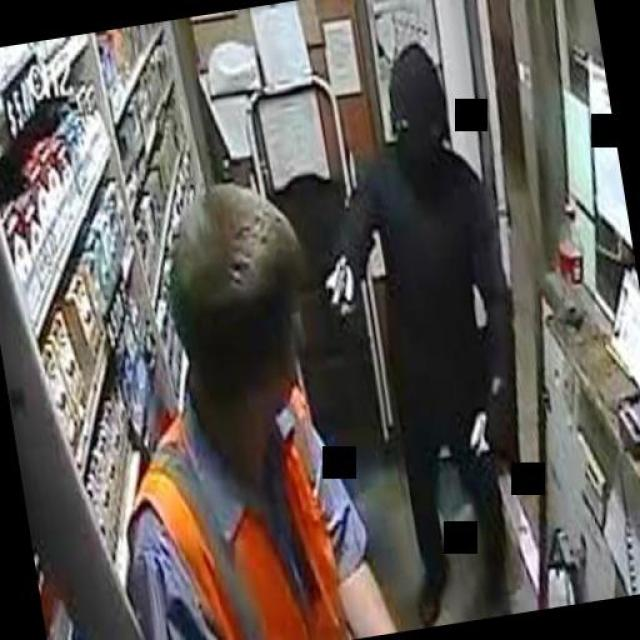gun: (320, 254, 364, 328)
